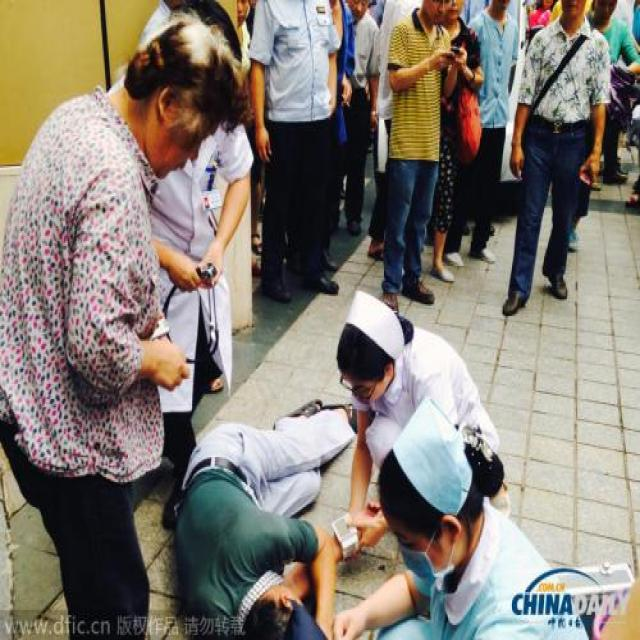10-: (1, 0, 638, 632)
down: (154, 386, 352, 638)
